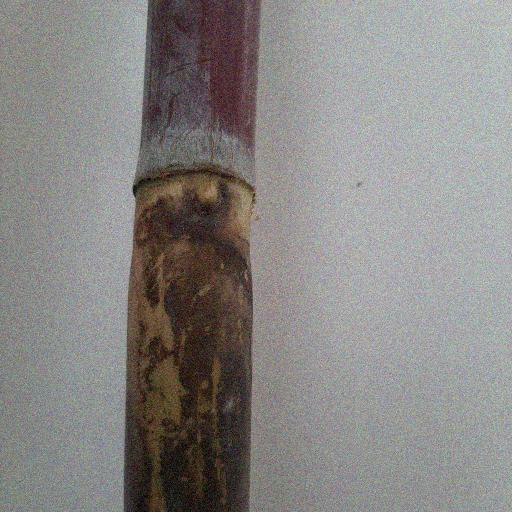Bud: (195, 177, 222, 213)
